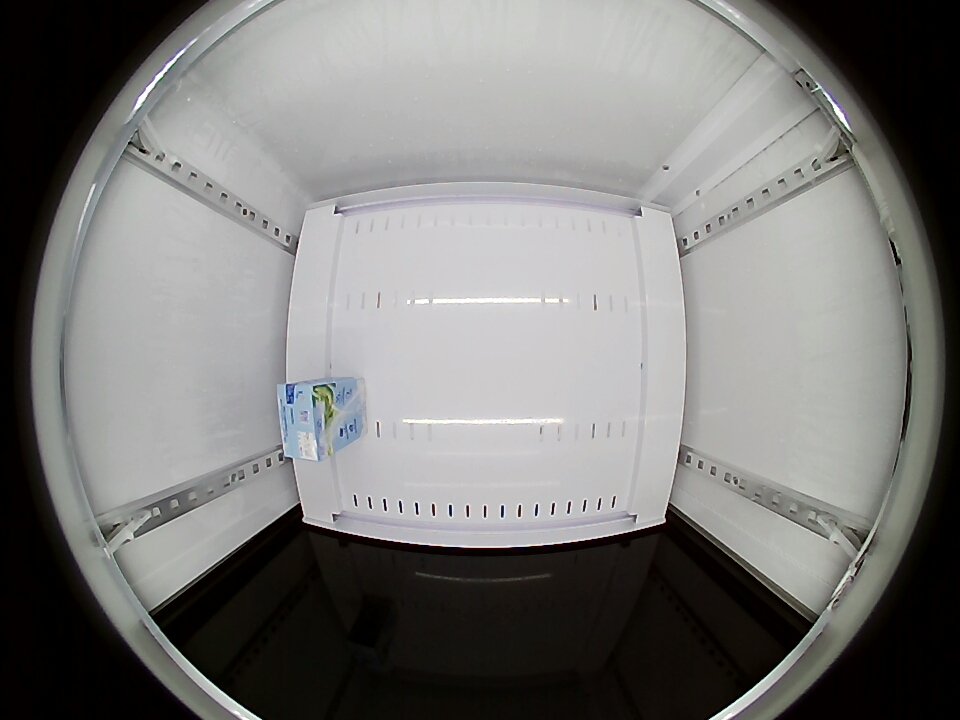weitanaiditang: (278, 381, 343, 463)
